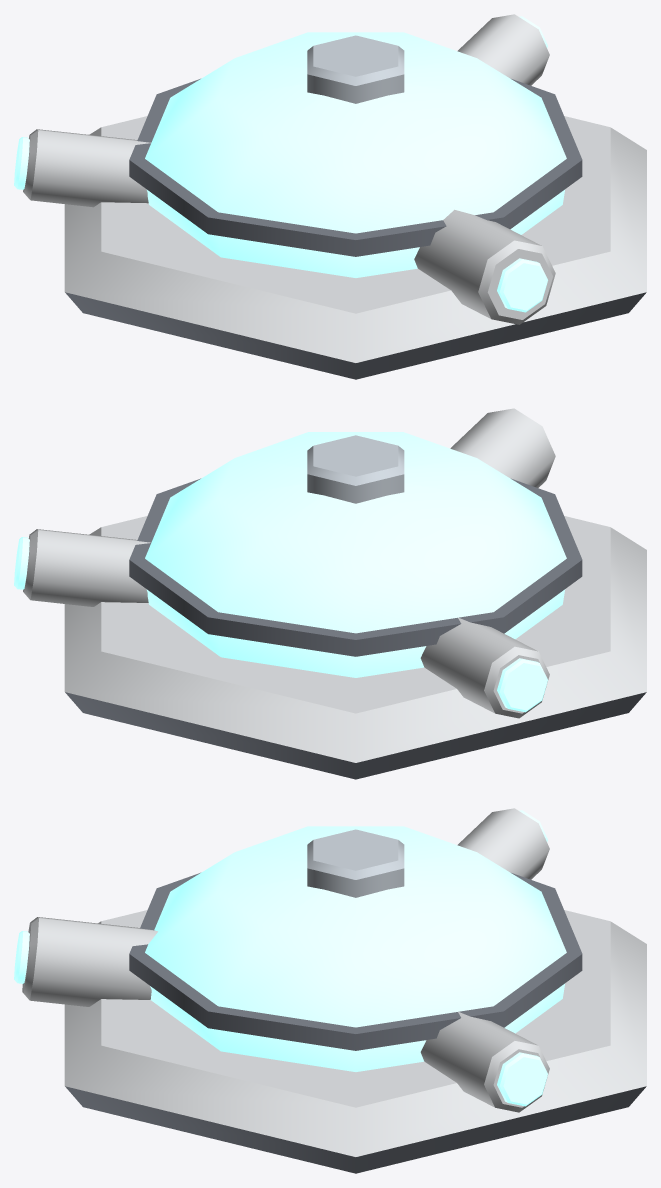
Rendered from R4D_SlowTrap_LOD1.fbx.
3 views of the same model, one above another, from view 1: azimuth 30°, elevation 25°; view 2: azimuth 150°, elevation 25°; view 3: azimuth 270°, elevation 25° (orthographic).
Visible parts, largest first — view 1: R4D_SlowTrap_LOD1; view 2: R4D_SlowTrap_LOD1; view 3: R4D_SlowTrap_LOD1.
Part boxes in pixels (left/top/right/bottom): R4D_SlowTrap_LOD1: left=14, top=14, right=646, bottom=379; R4D_SlowTrap_LOD1: left=14, top=408, right=646, bottom=779; R4D_SlowTrap_LOD1: left=14, top=808, right=646, bottom=1173.
Bounding box in the file's own units: 0.48 × 0.15 × 0.452.
